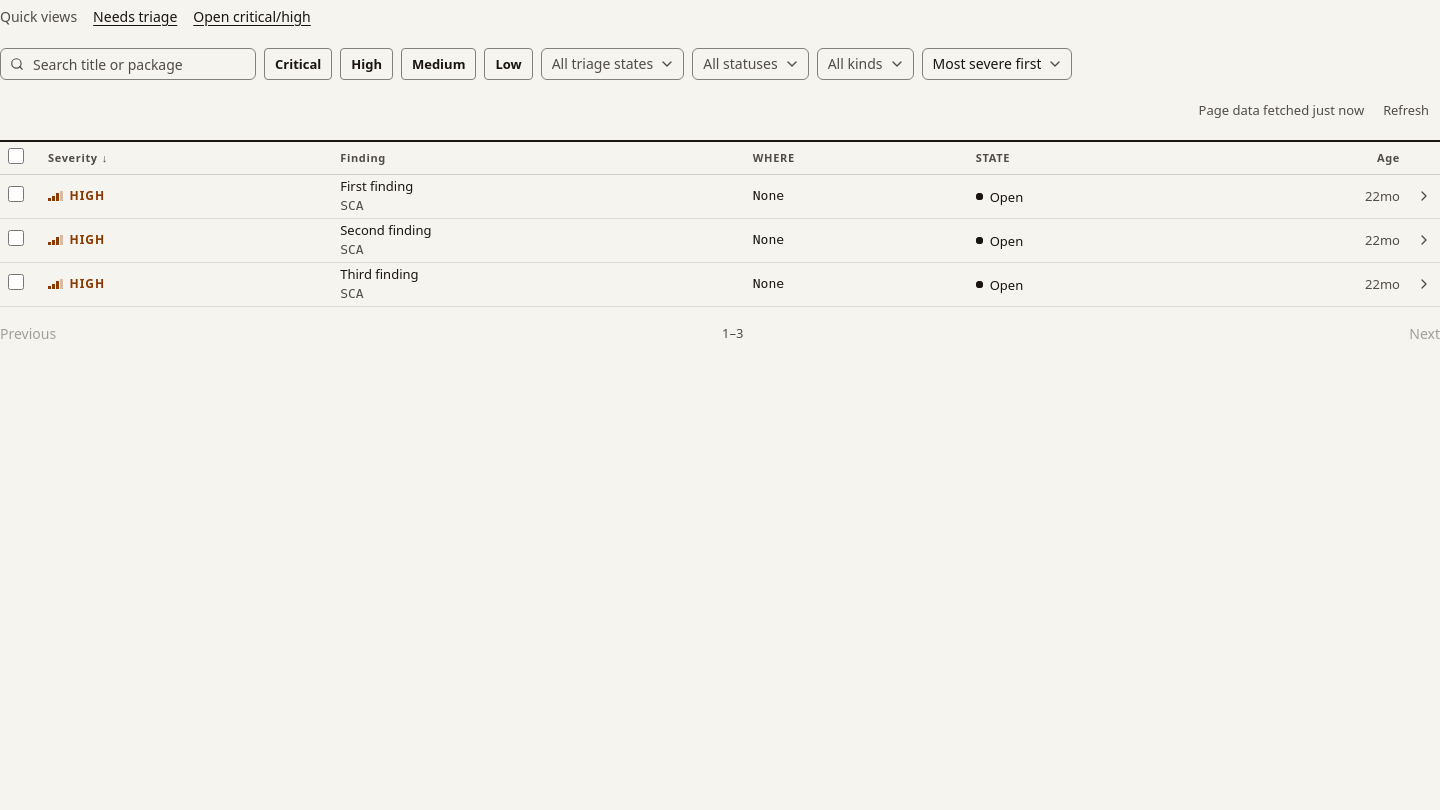
it: the findings list's selection and bulk actions › keeps the selection and says why when the server refuses the whole batch
Click the checkbox named "Select First finding" at point(16, 194), box [8, 186, 24, 202]
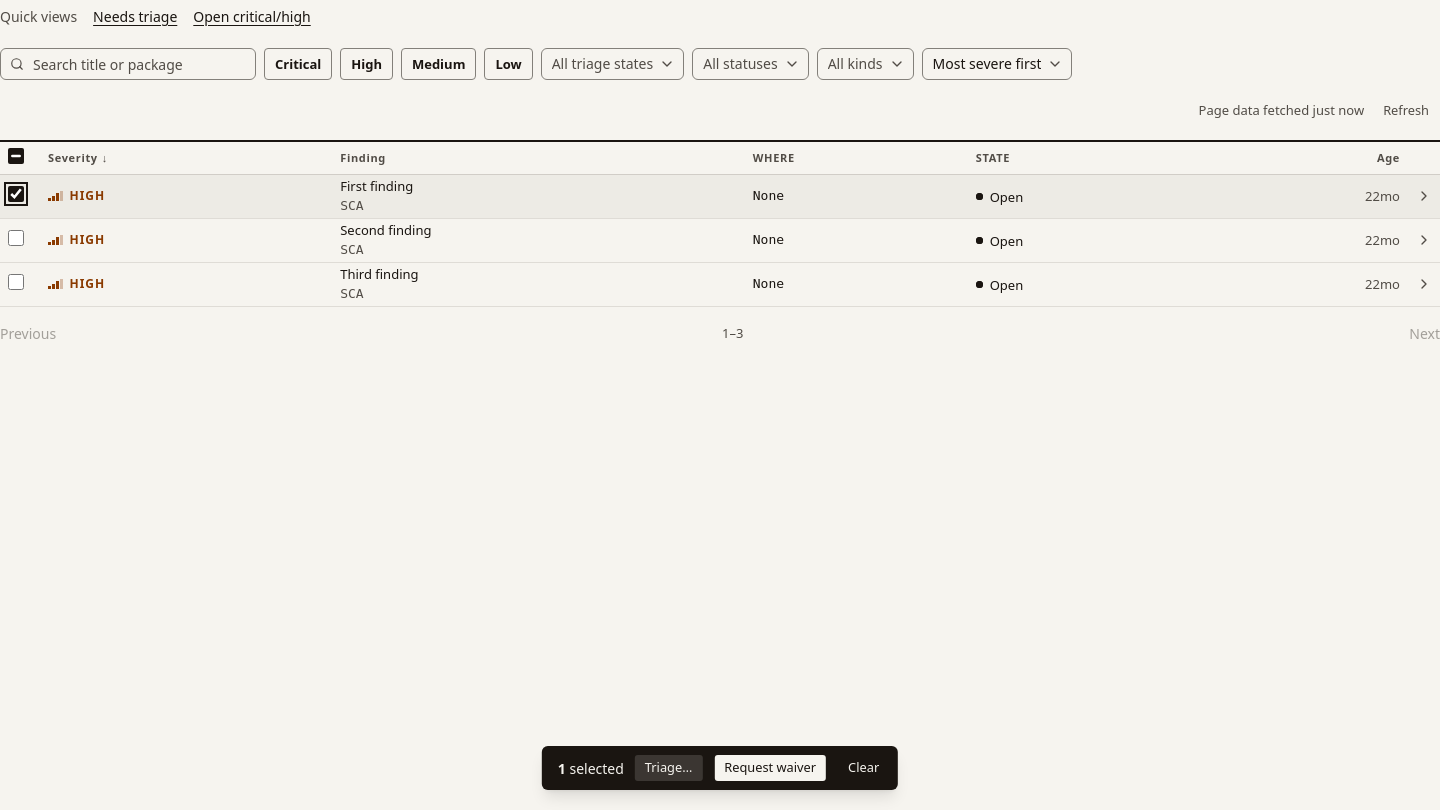
Click the checkbox named "Select Second finding" at point(16, 238), box [8, 230, 24, 246]
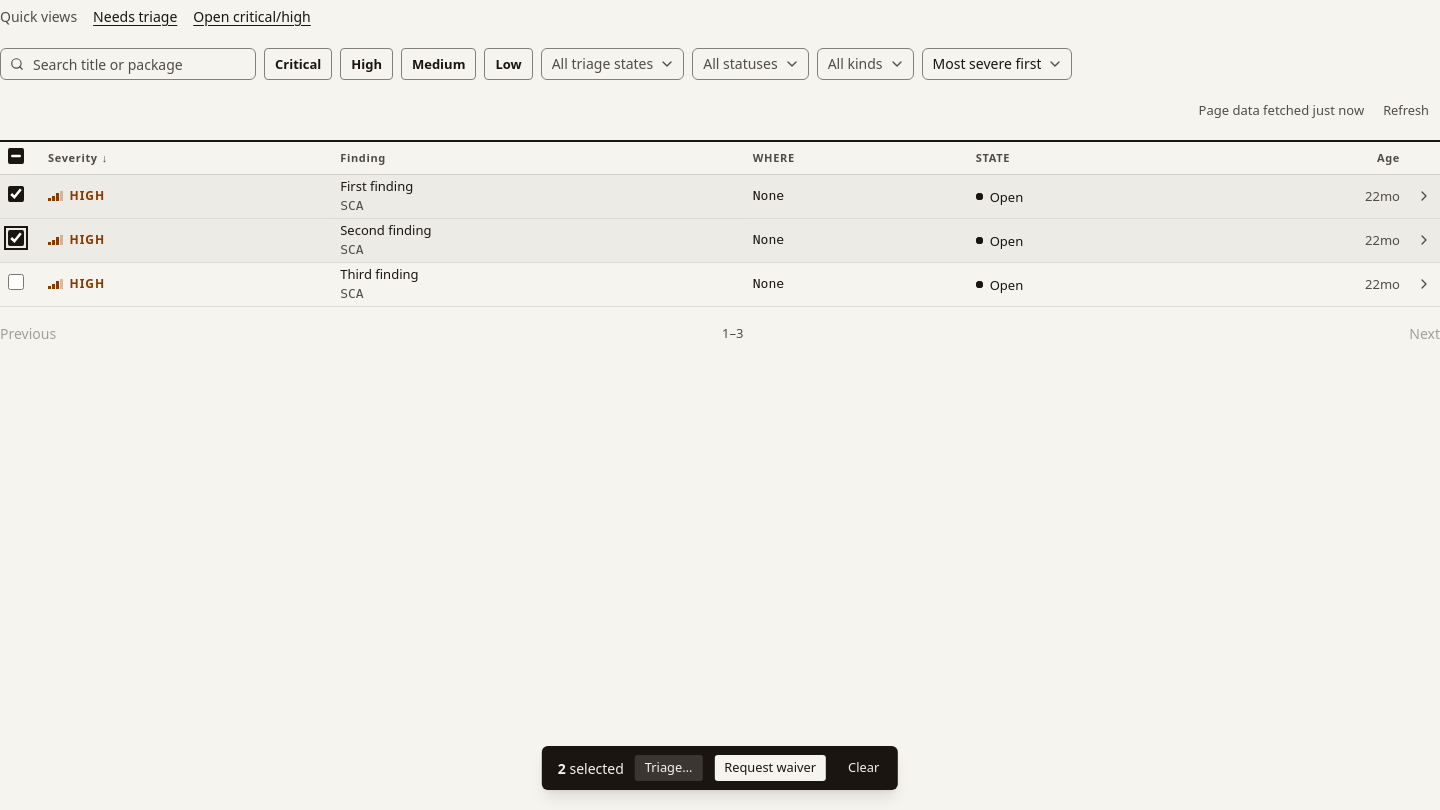
Click the button "Triage…" at point(669, 768), box [634, 754, 703, 782]
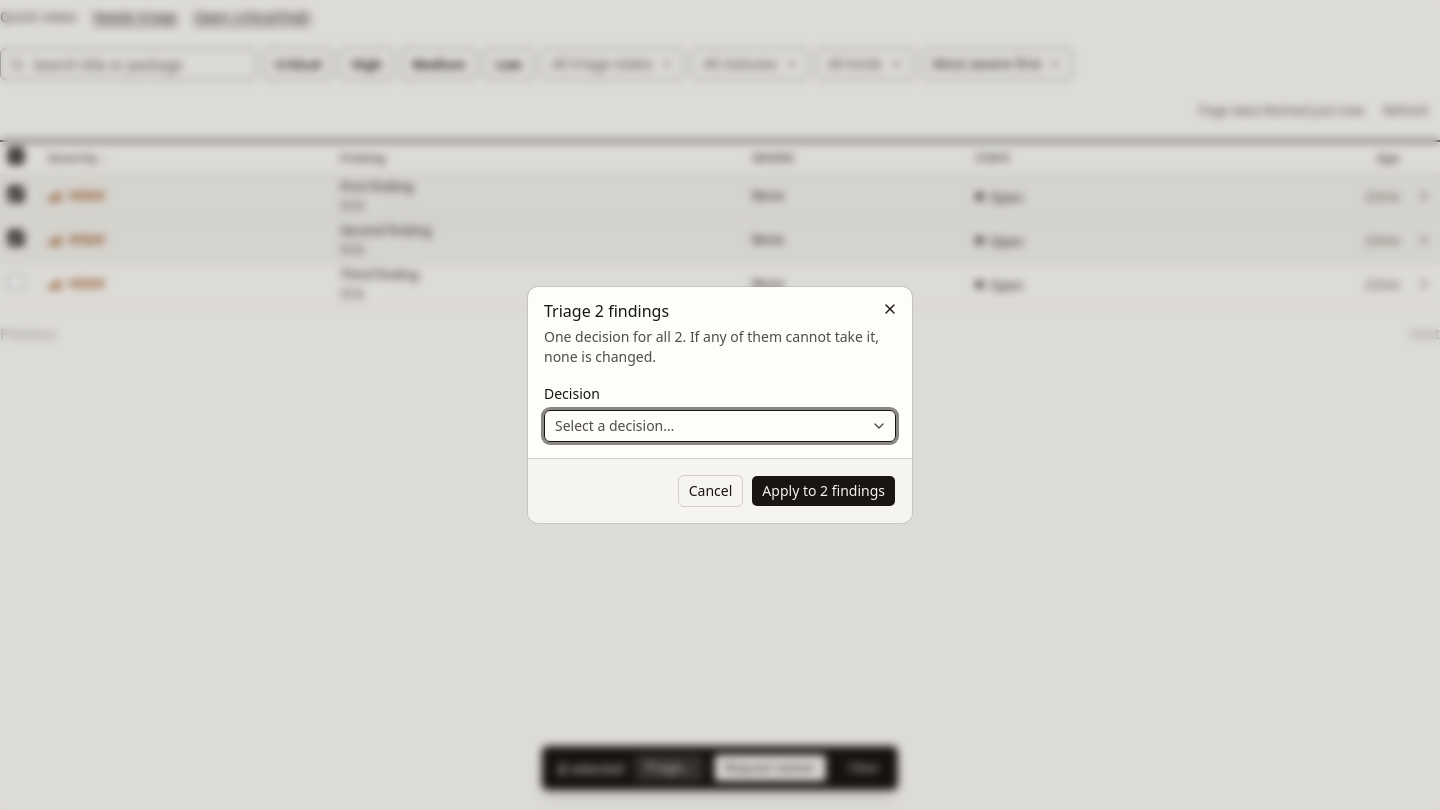
Click the dropdown labelled "decision" at point(615, 426), box [544, 410, 896, 442]
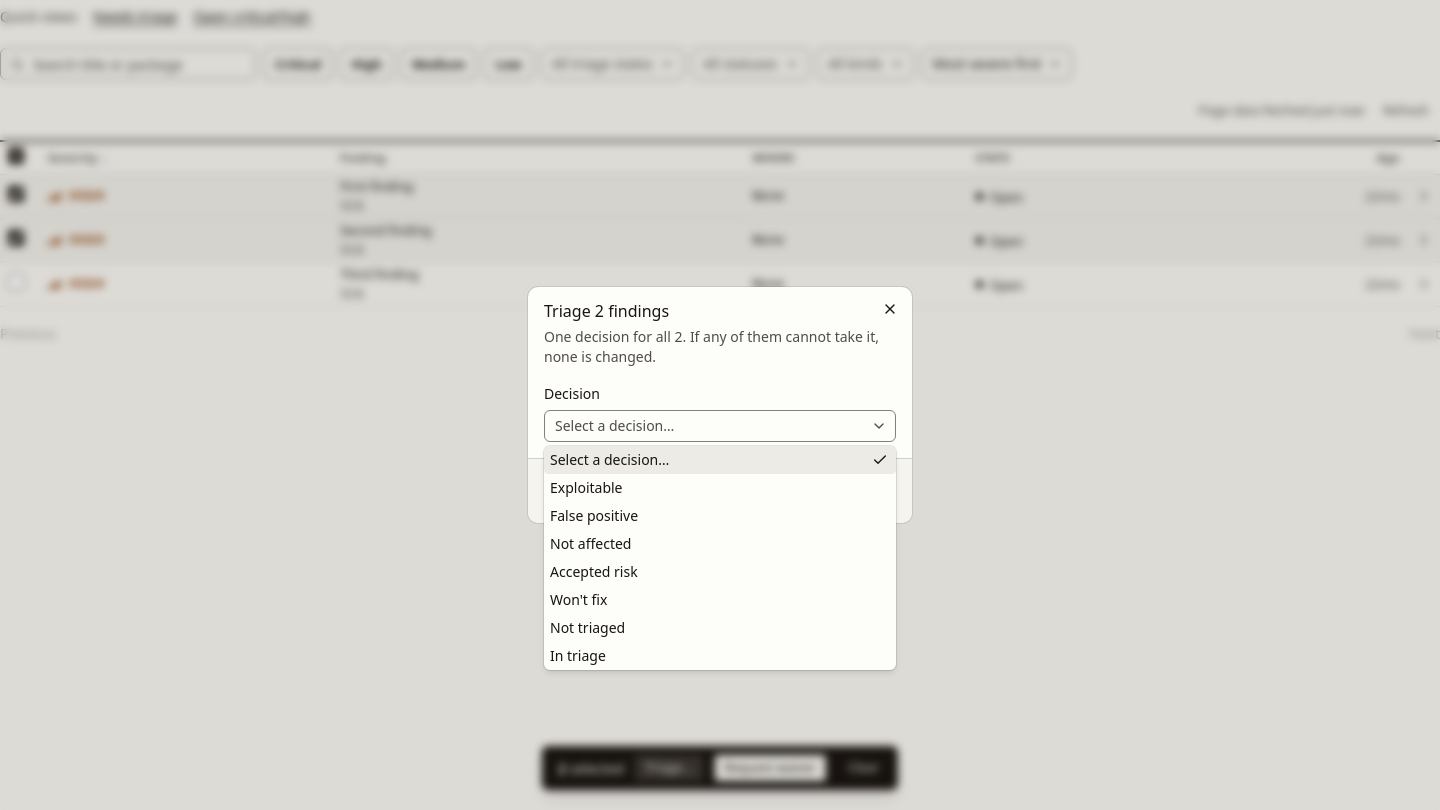
Click the option "Exploitable" at point(586, 488), box [550, 478, 622, 497]
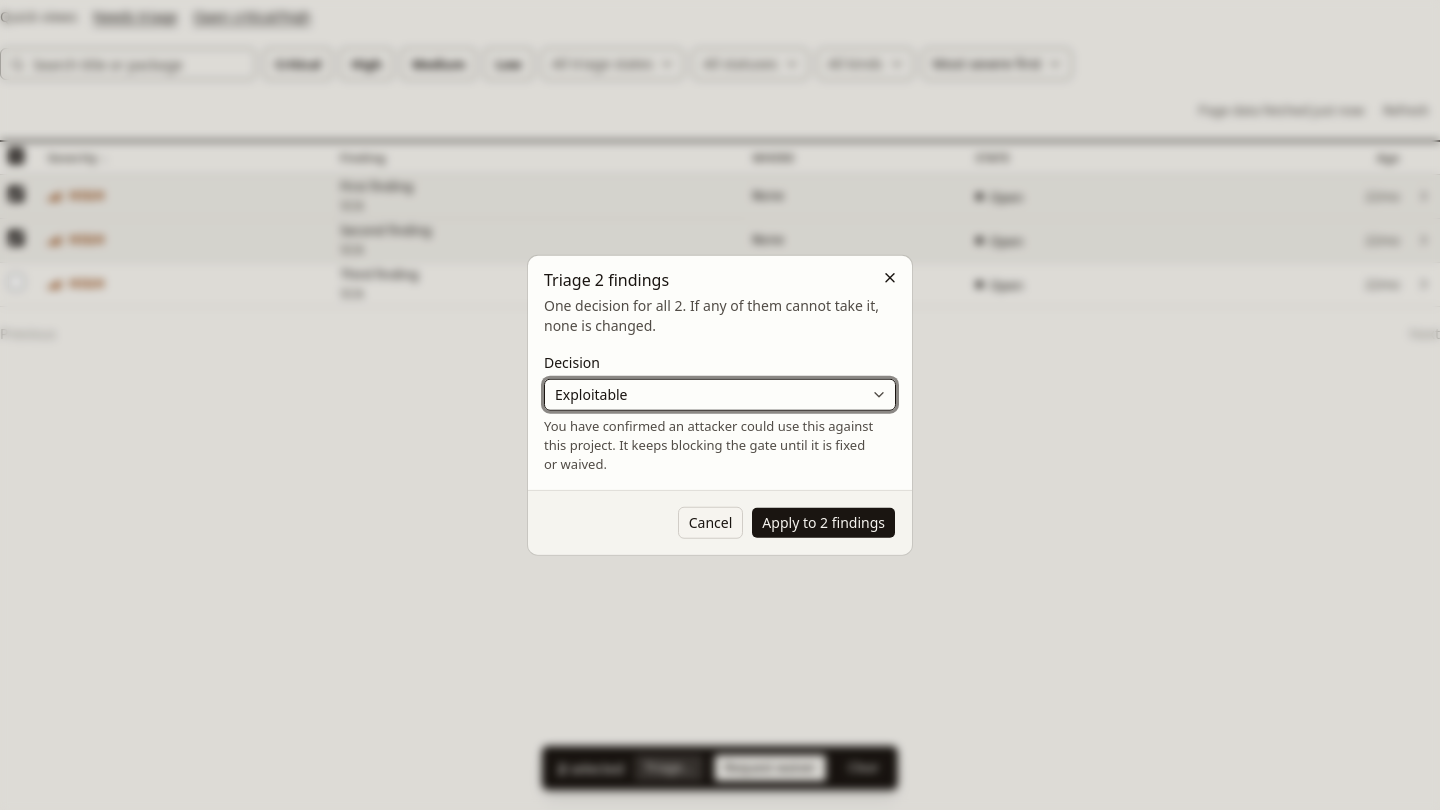
Click the button "Apply to 2 findings" at point(824, 522), box [751, 506, 896, 538]
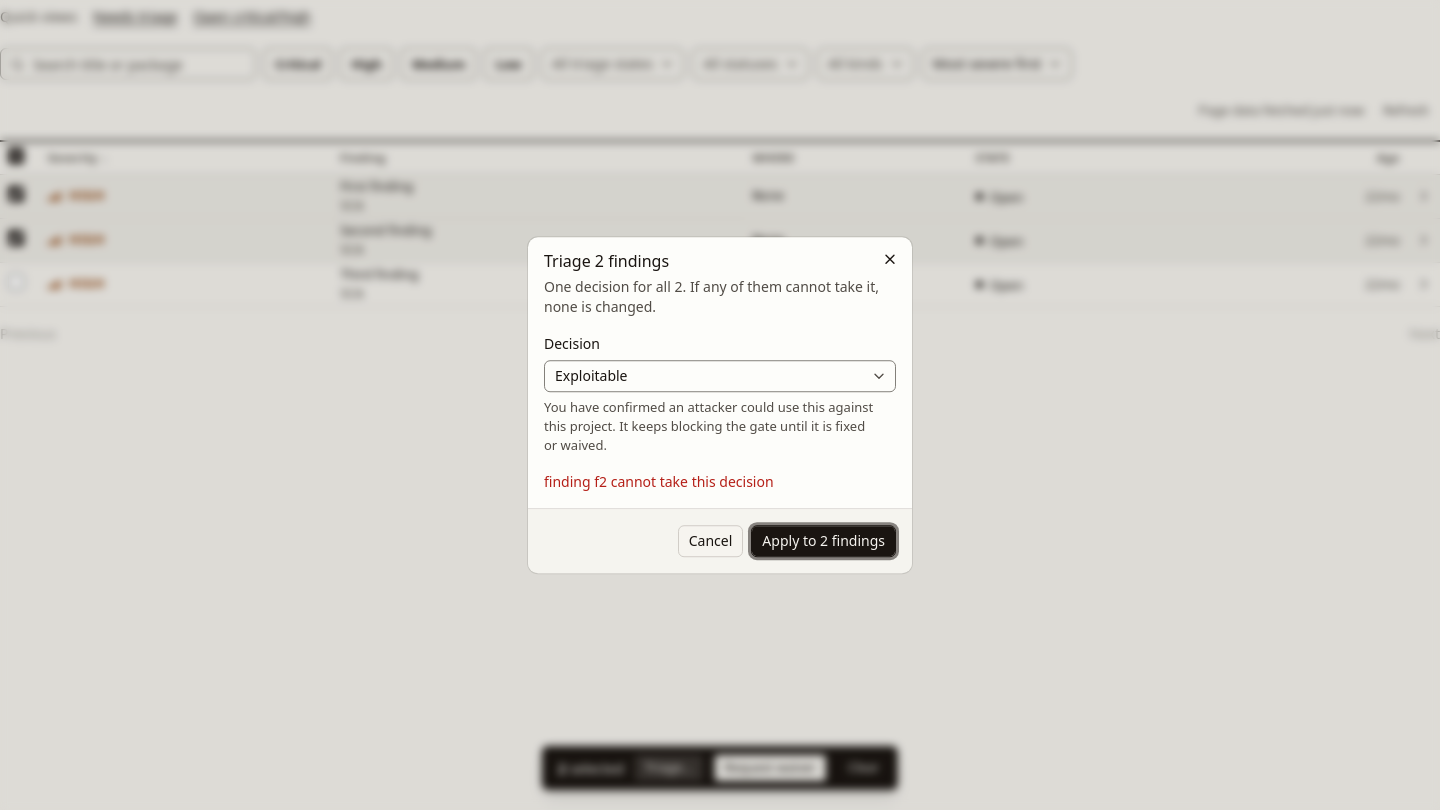
Now the element named "Bulk actions" shows "2 selected", box [542, 746, 898, 790]
Now the message shows "cannot take this decision", box [544, 472, 774, 491]
